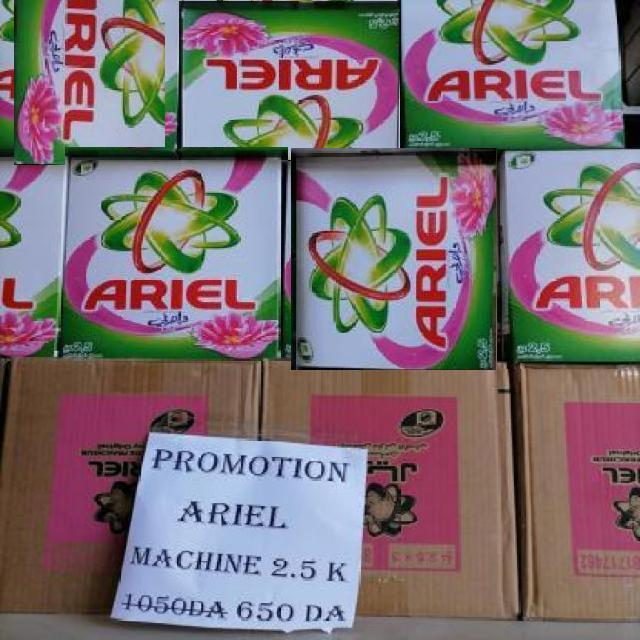Detergent: (65, 148, 288, 355), (292, 148, 497, 370), (178, 0, 401, 160), (400, 0, 621, 152), (501, 149, 639, 369), (14, 0, 165, 165)
